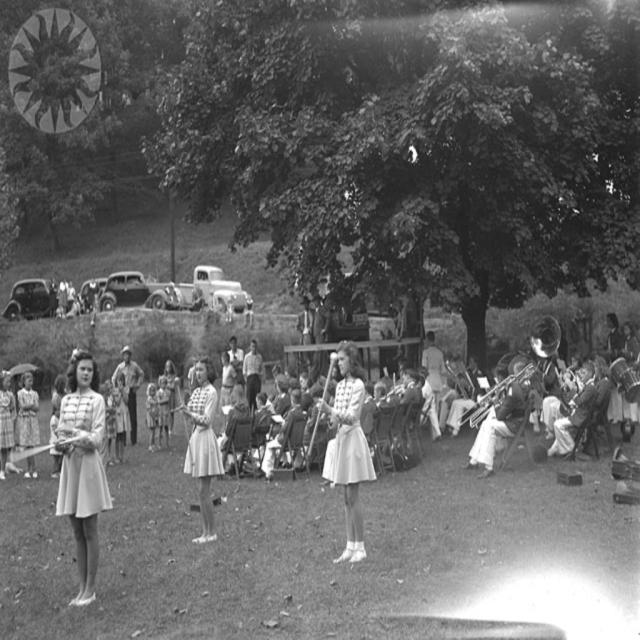car: (92, 267, 178, 314)
